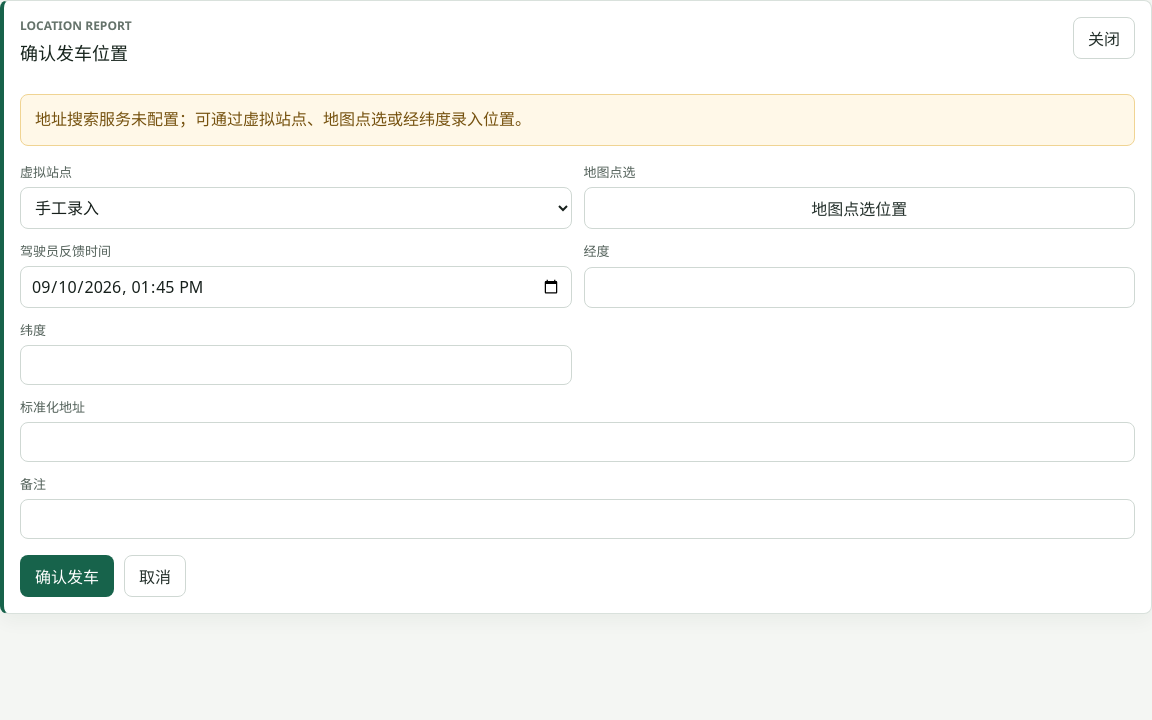
Test: LocationReportPanel › does not submit when only address is filled without coordinates
Type "通渭县客运中心" into the field labelled "标准化地址" at {"x": 578, "y": 442}, box [20,422,1135,462]
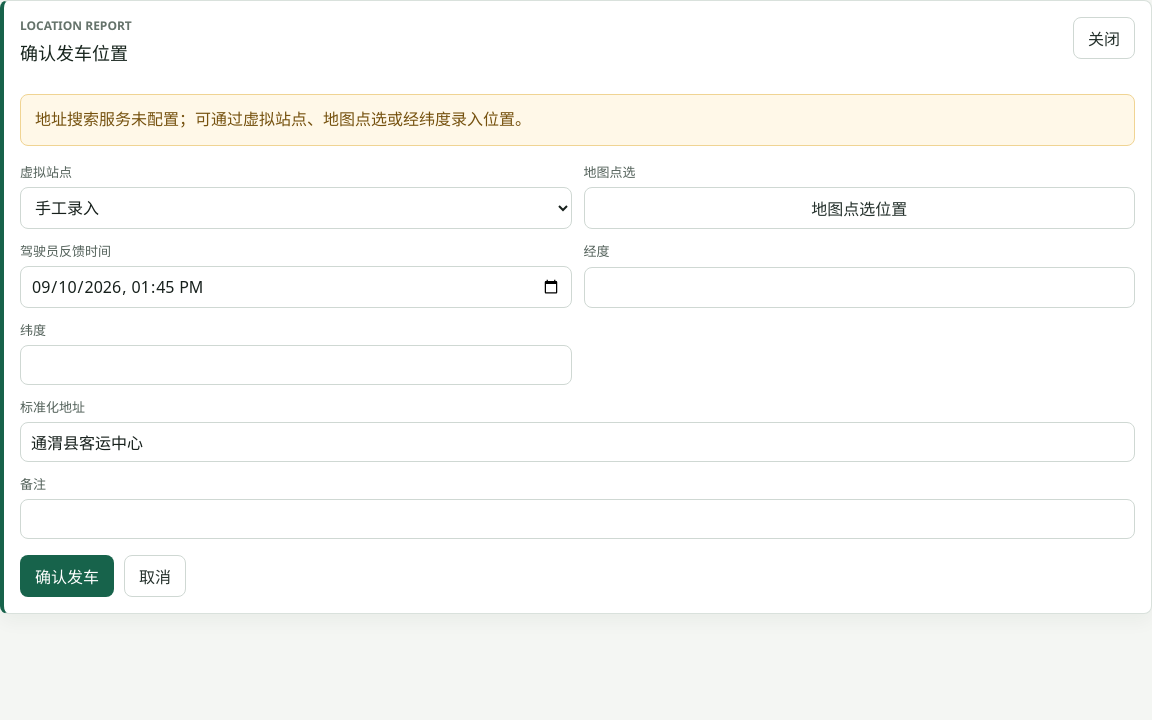
Click the button "确认发车" at {"x": 67, "y": 576}, box [20,555,114,597]
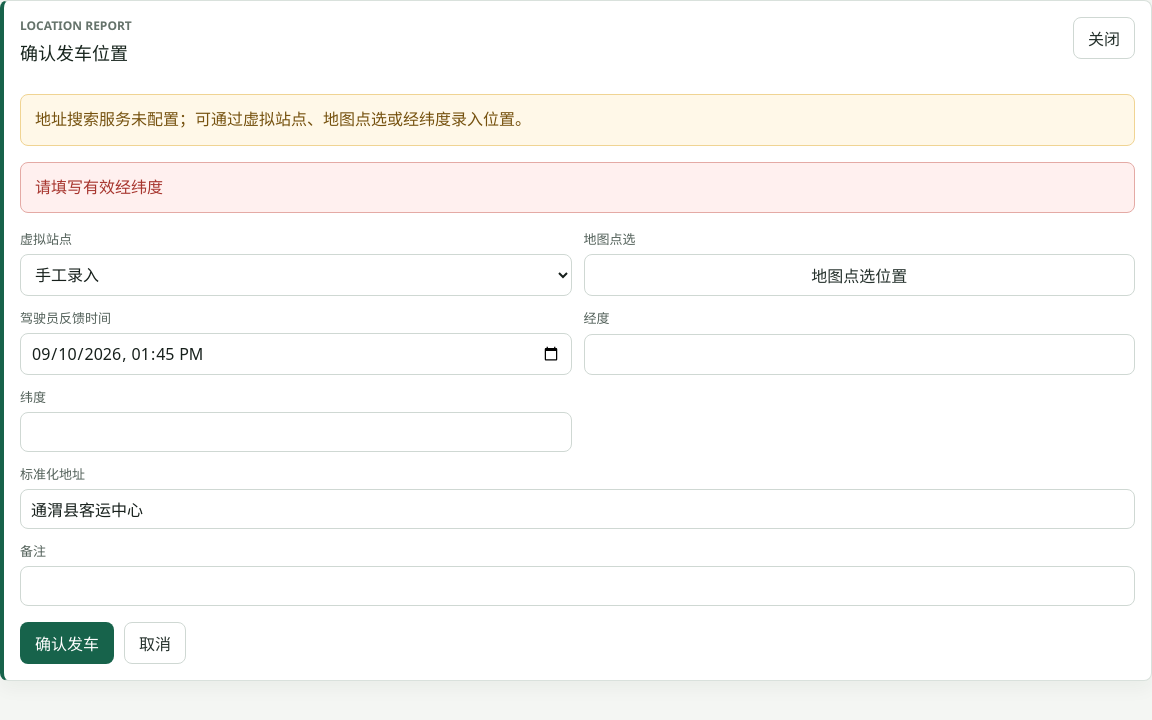
Expected: the text "请填写有效经纬度" is shown, [20,162,1135,213]
